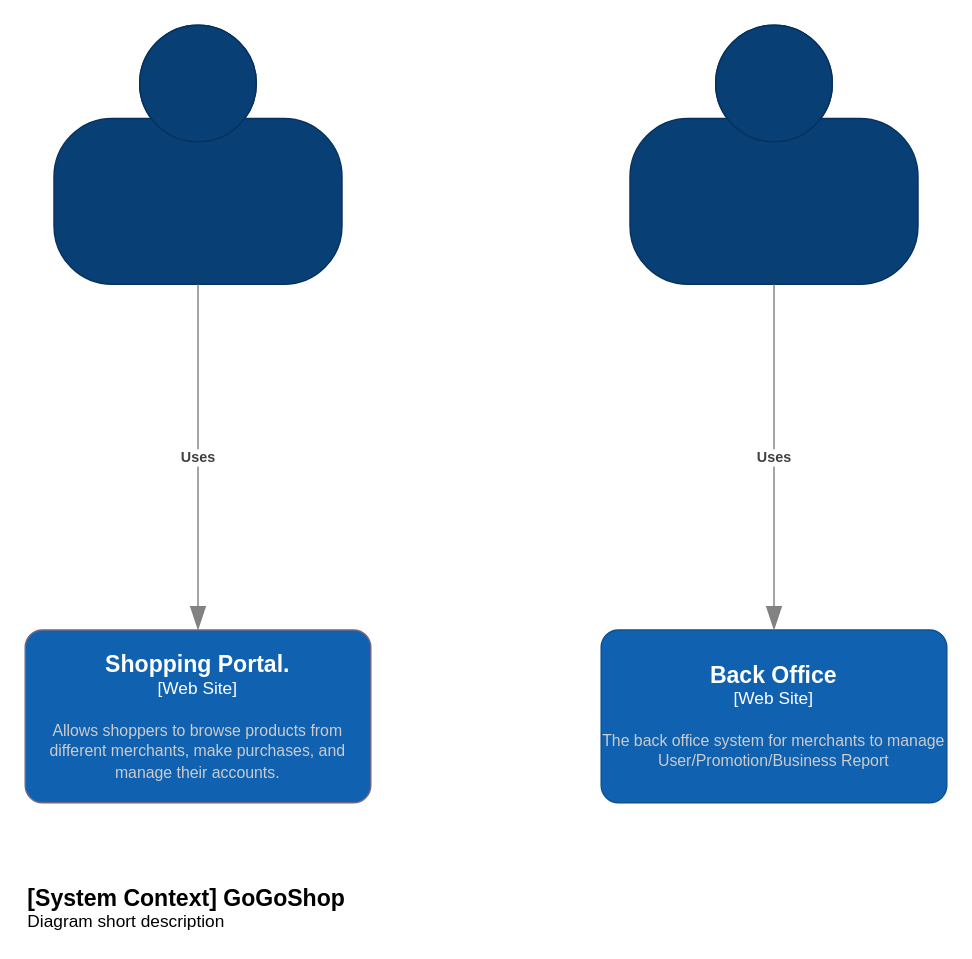
Some shapes in this 972 by 959 pixel diagram are drawn without their labels. Here are the shapes that lost their labels. From the top down, the box of each, then its label:
(53, 24, 342, 284): User [Person] User who purchase product
(629, 24, 918, 284): Merchant [Person] Merchant who manage their stores.
